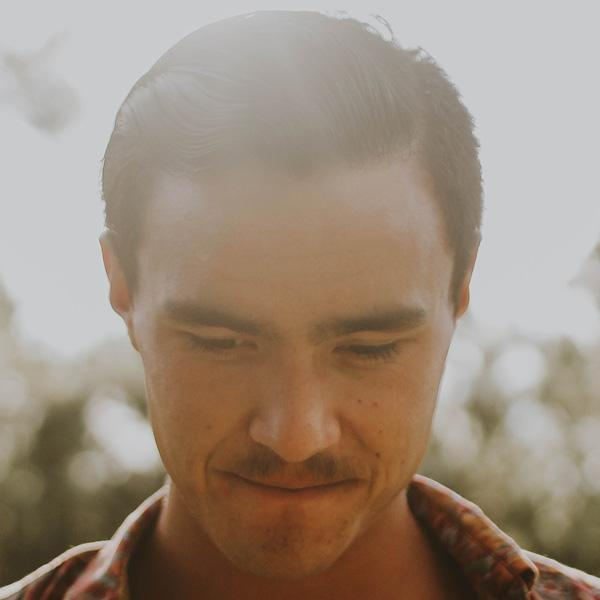Eyes: (172, 317, 264, 366), (326, 326, 414, 368)
